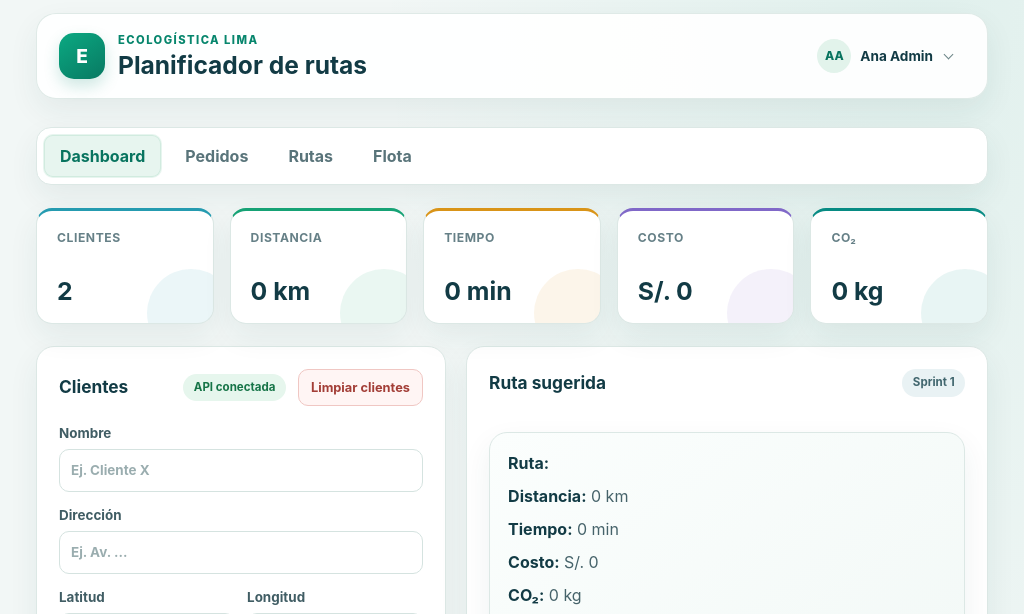
it: Limpiar clientes › si la API responde con error, conserva los clientes e informa
Expected: the text "API conectada" is shown, [183, 374, 286, 401]
Click the button "Limpiar clientes".
click(360, 387)  # box [298, 369, 423, 406]
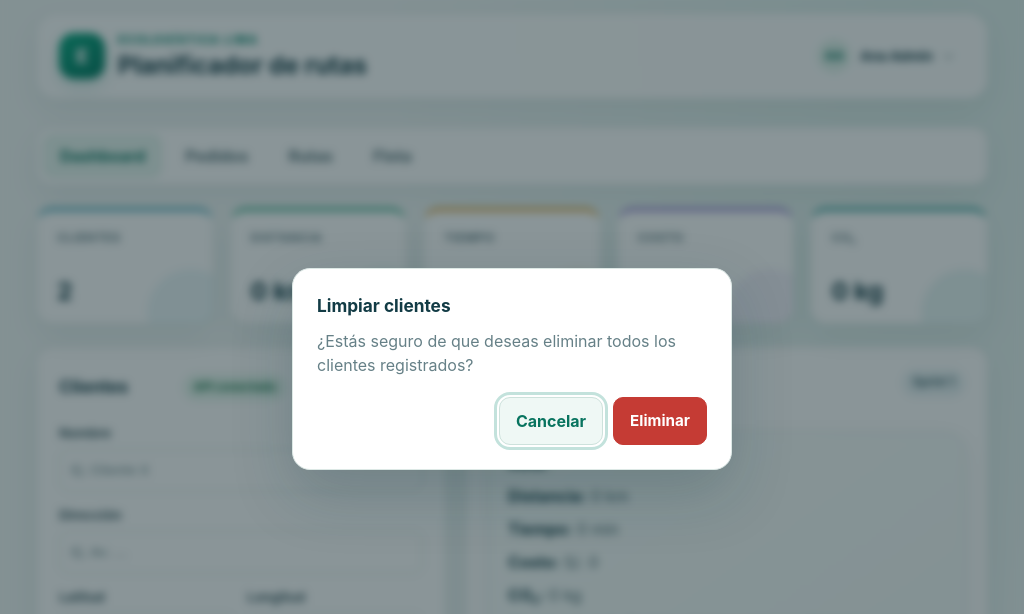
Click the button "Eliminar".
click(660, 421)  # box [613, 397, 707, 445]
(page scrolled)
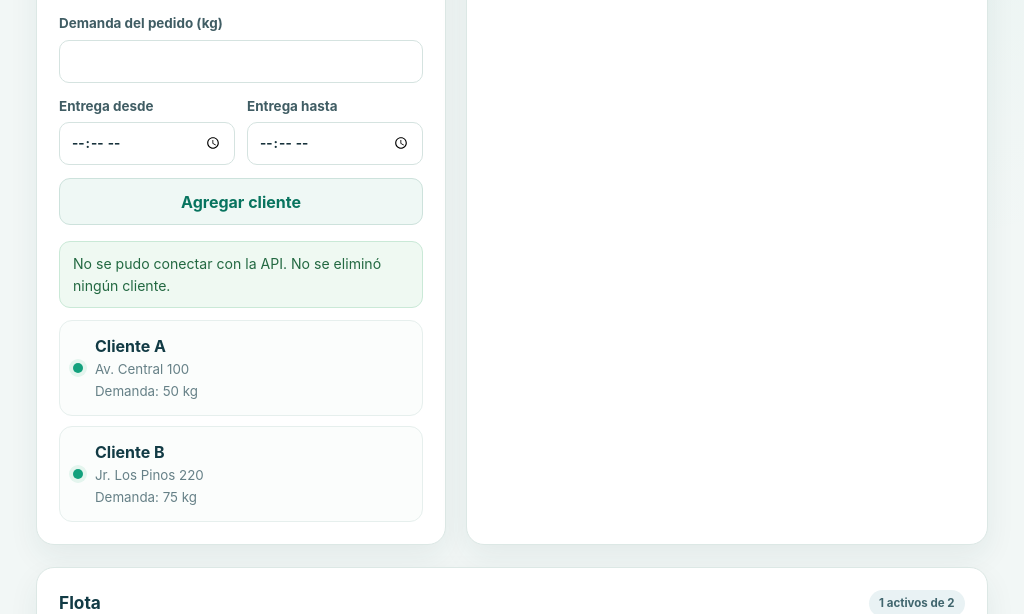
Expected: the text "Av. Central 100" is shown, [95, 360, 198, 380]
Result: the text "No se pudo conectar con la API. No se eliminó ningún cliente." is shown at [59, 241, 423, 308]
Result: the dialog is gone
